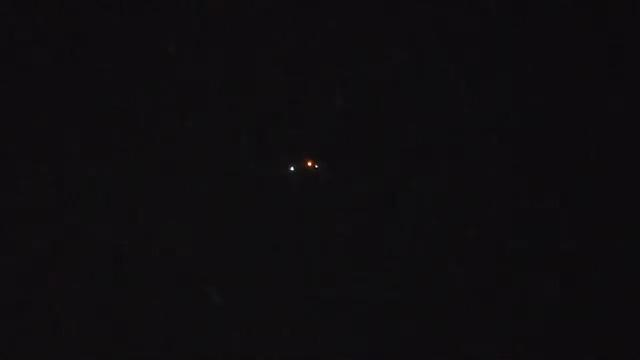Plane: (273, 151, 340, 180)
